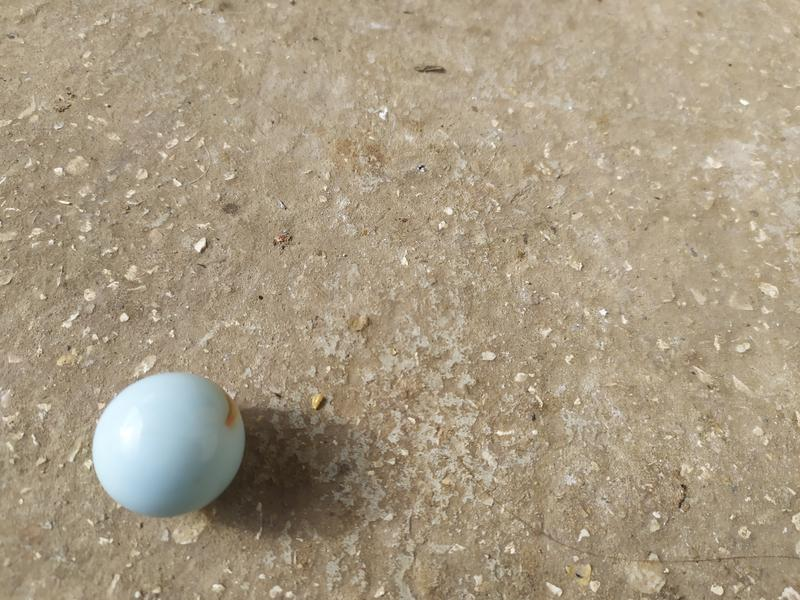Warning: (90, 365, 250, 521)
